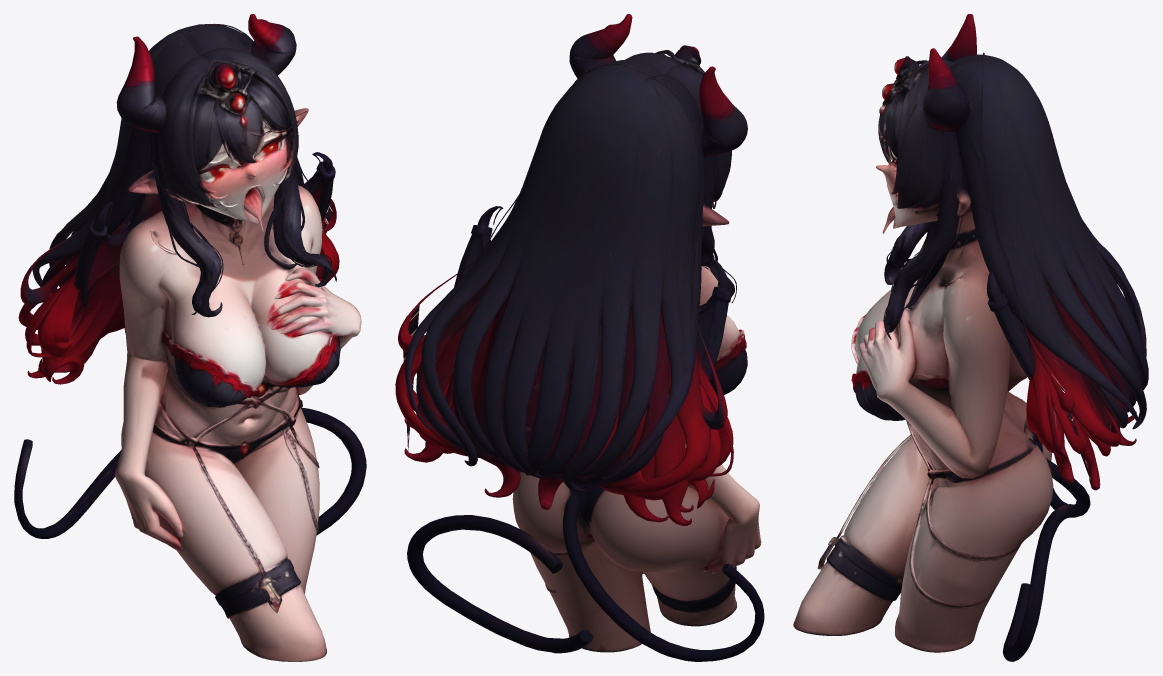
3 renders of one model, left to right at view 1: azimuth 30°, elevation 25°; view 2: azimuth 150°, elevation 25°; view 3: azimuth 270°, elevation 25°, orthographic. The views are drawn at different scales.
Visible parts, largest first — view 1: node_0; view 2: node_0; view 3: node_0.
Boxes of the visible parts, x1,y1,x2,y2 form: node_0: [14, 14, 366, 661]; node_0: [395, 14, 764, 661]; node_0: [793, 14, 1148, 661].
Size of the model in its own units: 0.6399 by 1.05 by 0.5852.
Materials: 1 (1 with a texture image).
